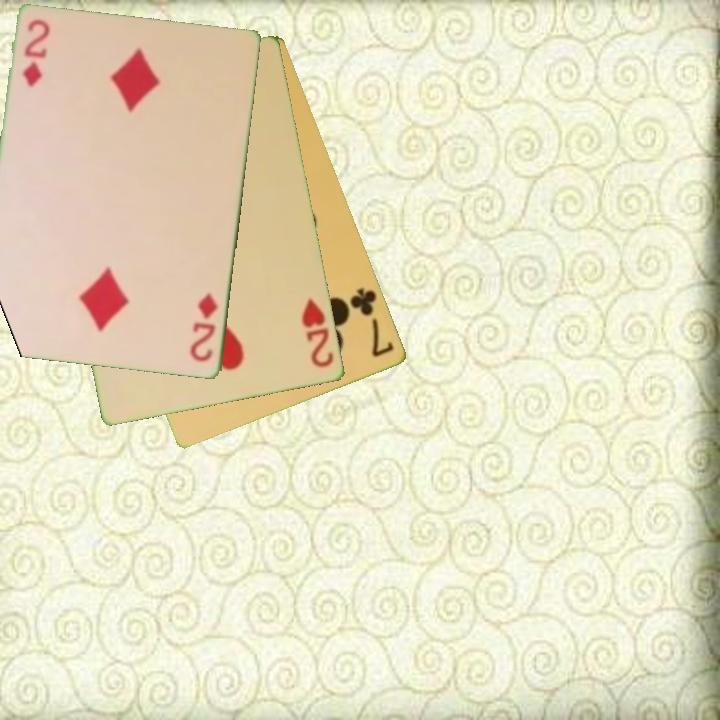2d: (187, 289, 221, 365), (19, 16, 52, 90)
2h: (298, 295, 337, 371)
7c: (347, 284, 398, 360)
